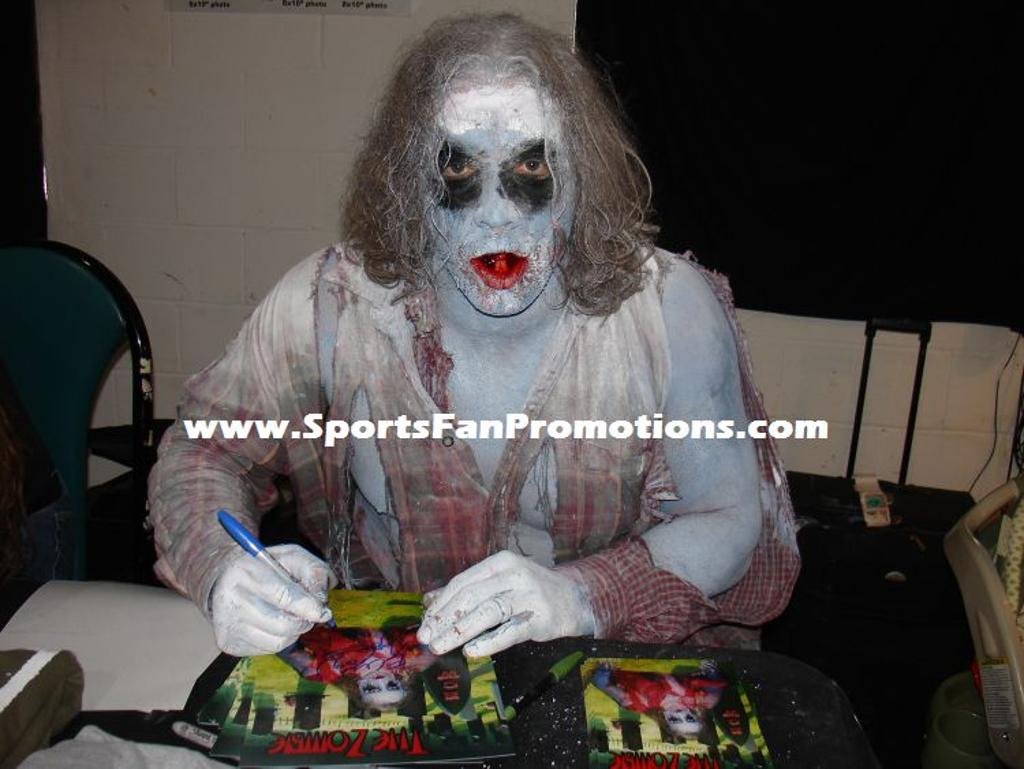face: (424, 98, 572, 304)
